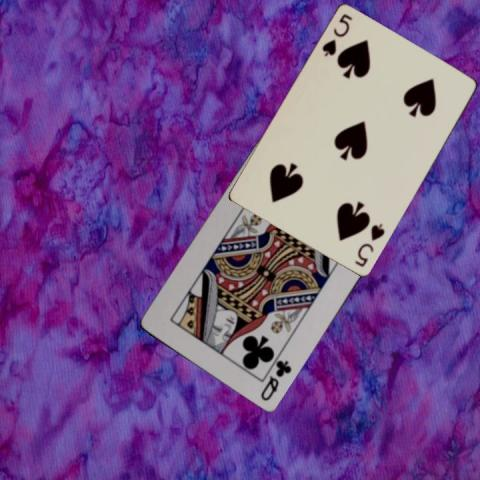5s: (352, 220, 387, 269), (319, 10, 354, 58)
Qc: (258, 357, 294, 403)
